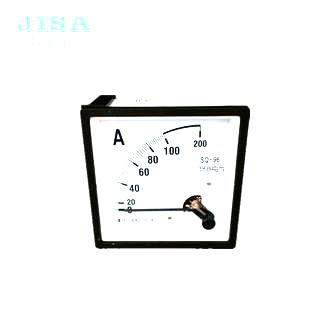pointer: (88, 116, 239, 244)
